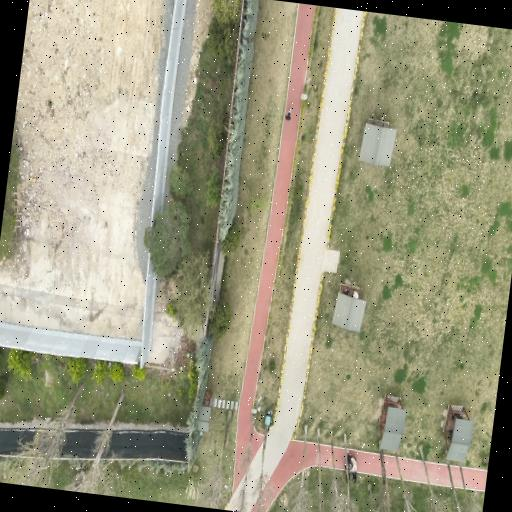person: (347, 451, 357, 482), (285, 108, 291, 119)
